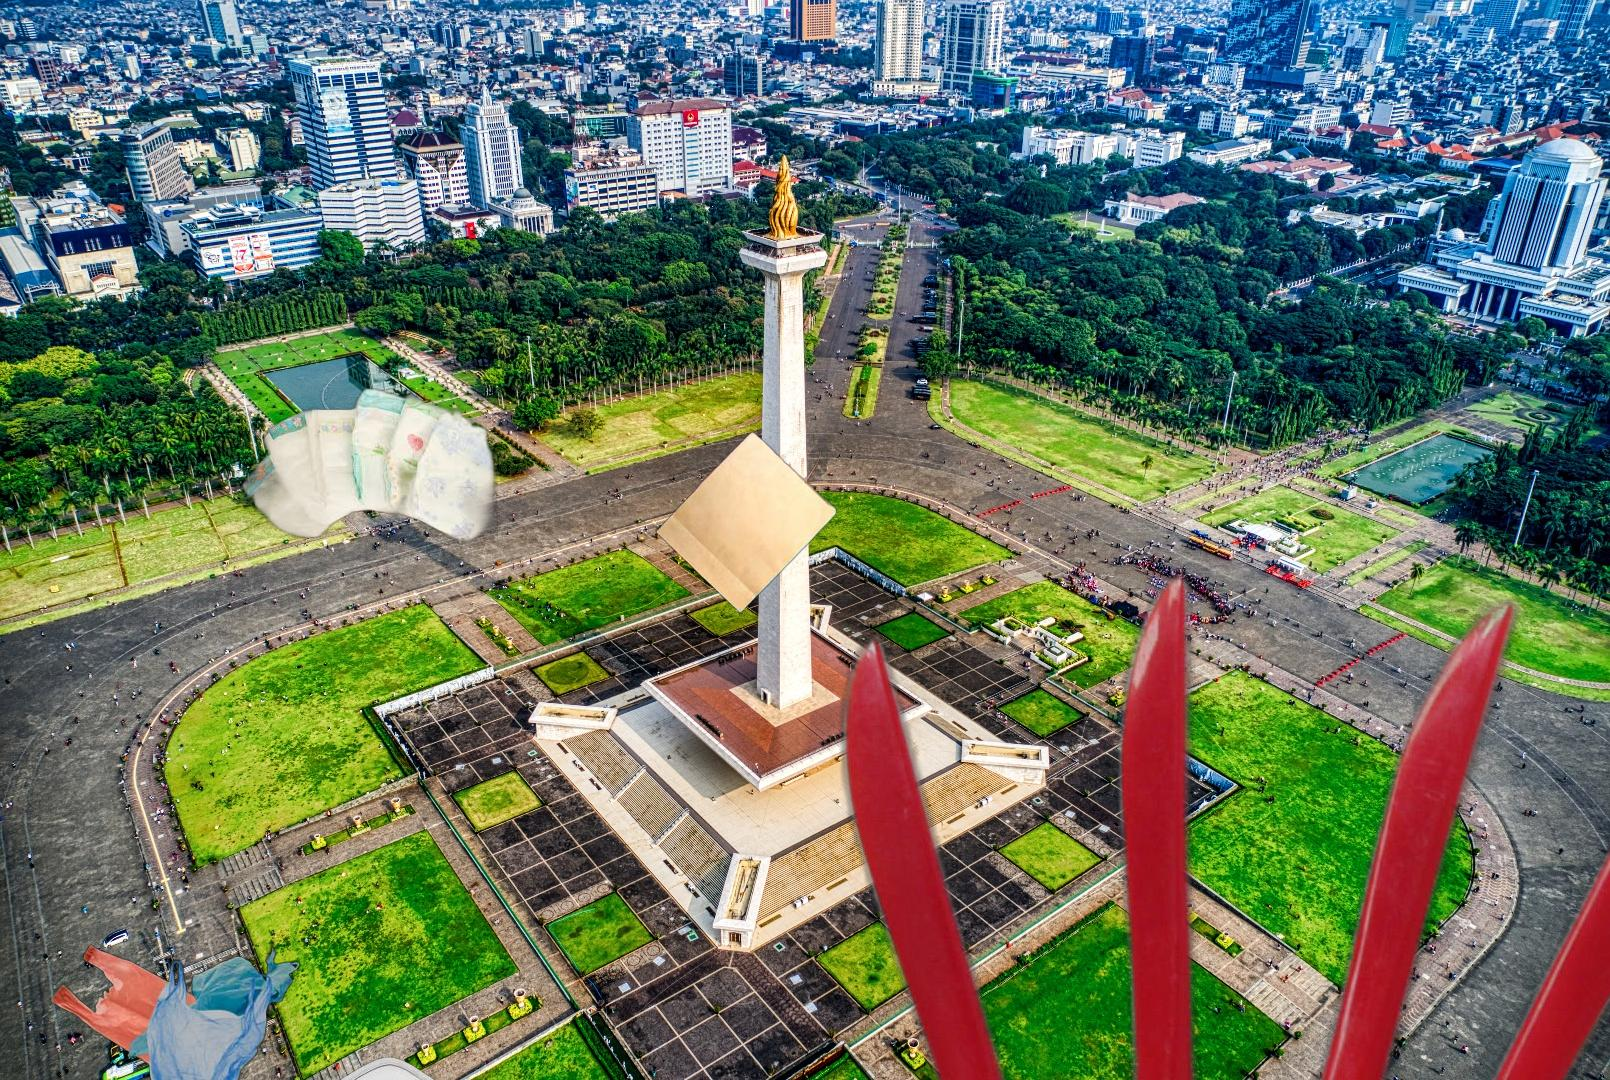biological: (1460, 1007, 1610, 1080)
paper-bag: (653, 377, 912, 615)
penholder: (824, 561, 1610, 1080)
plastic-bag: (49, 939, 301, 1080)
trash: (239, 383, 498, 564), (291, 1054, 495, 1080)
